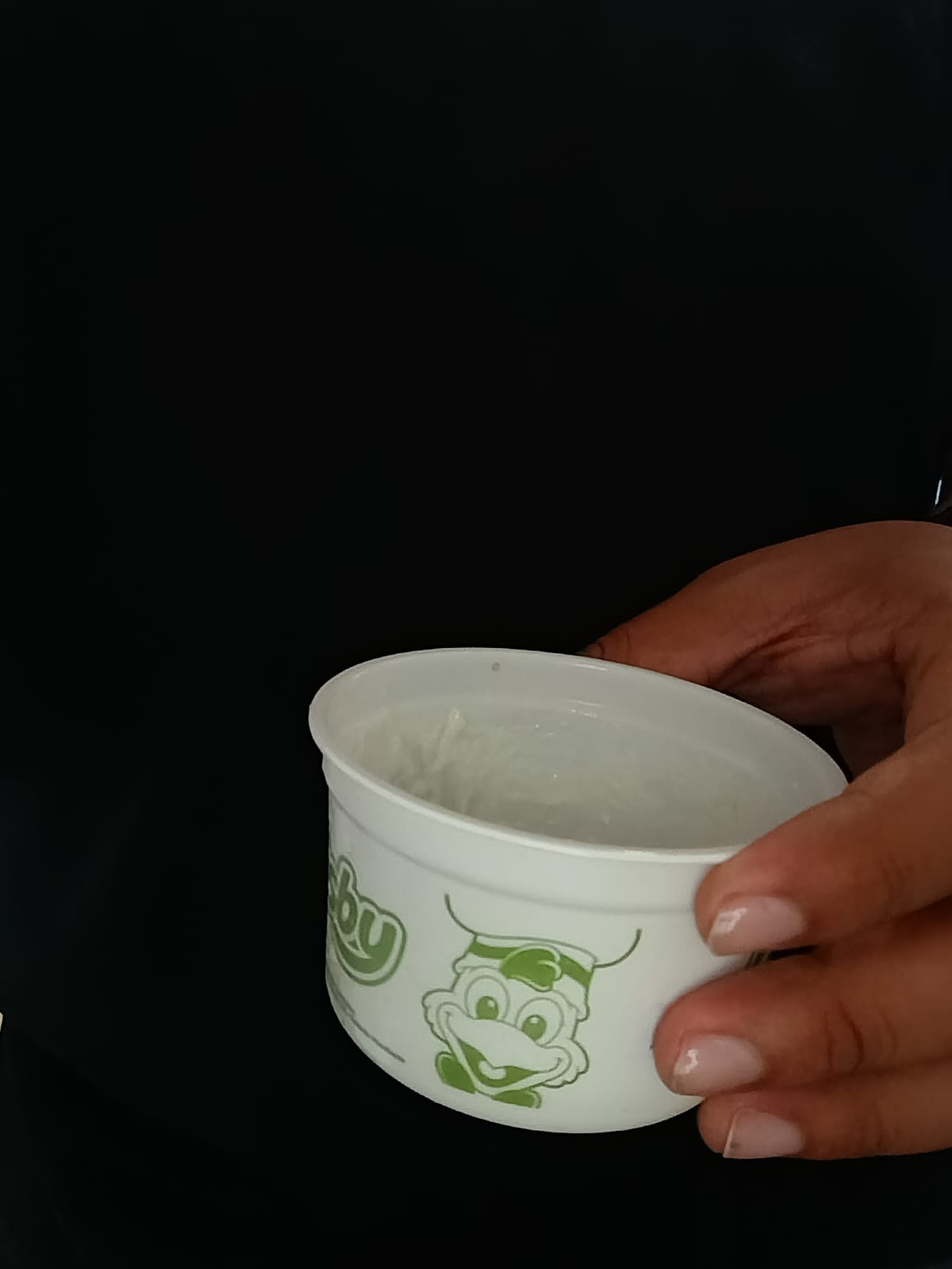Plastico: (306, 646, 850, 1136)
